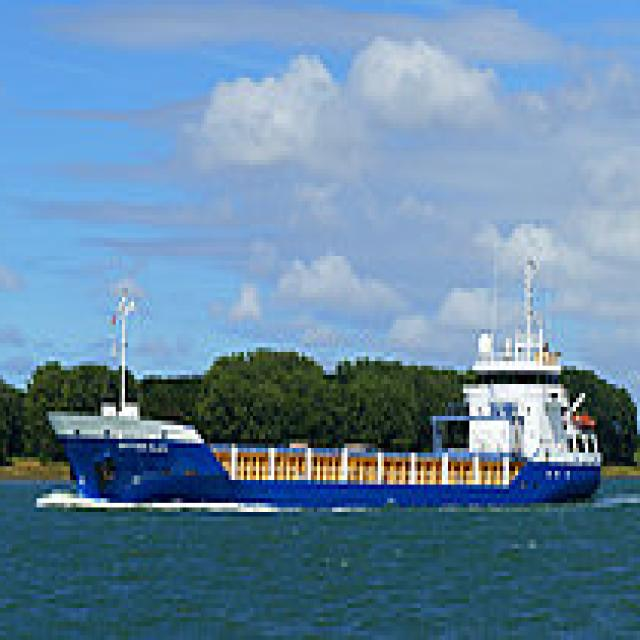Cargo: (49, 247, 606, 507)
